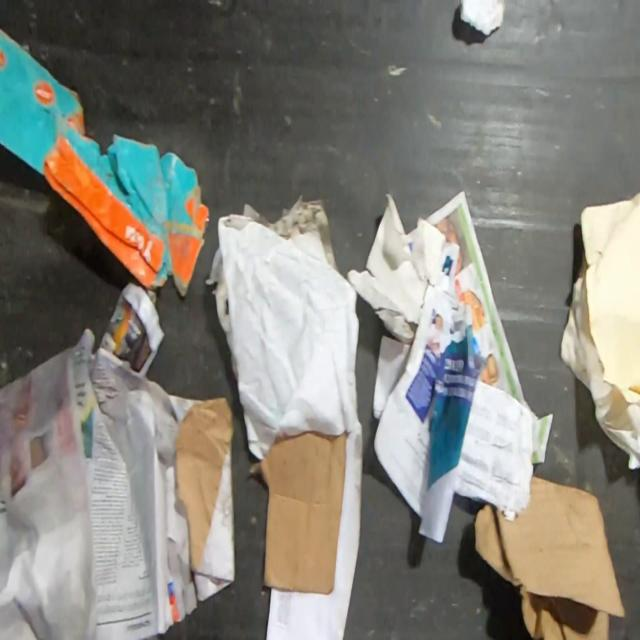cardboard: (0, 26, 211, 300), (471, 474, 627, 640), (247, 428, 350, 596), (164, 390, 237, 603)
